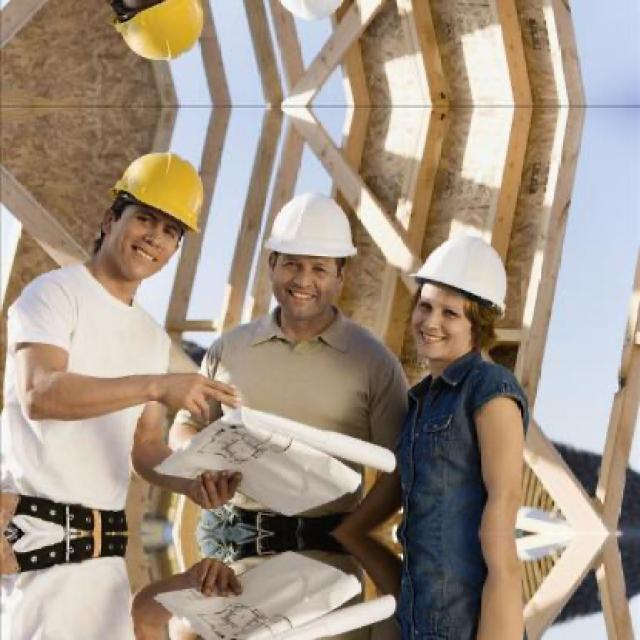helmet: (240, 182, 371, 338), (402, 224, 523, 373), (94, 139, 214, 288), (94, 0, 215, 76), (238, 0, 370, 32)
